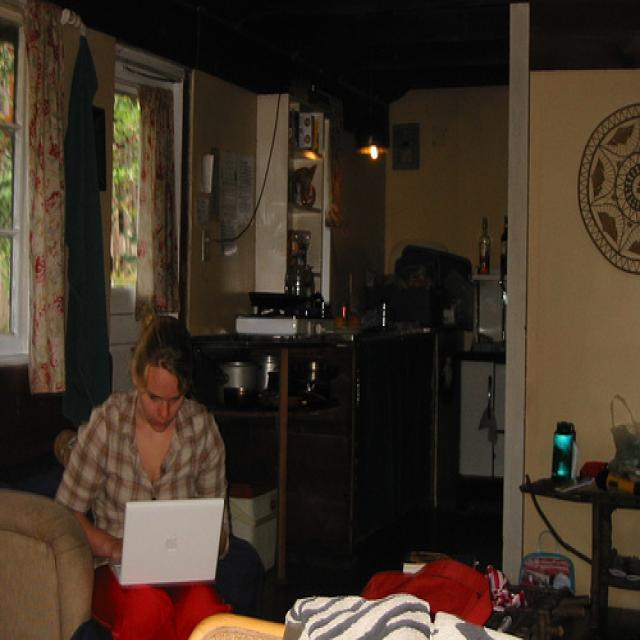Bottle: (497, 183, 526, 280), (472, 193, 495, 281)
People: (93, 326, 220, 599)
Table: (510, 428, 640, 601)
